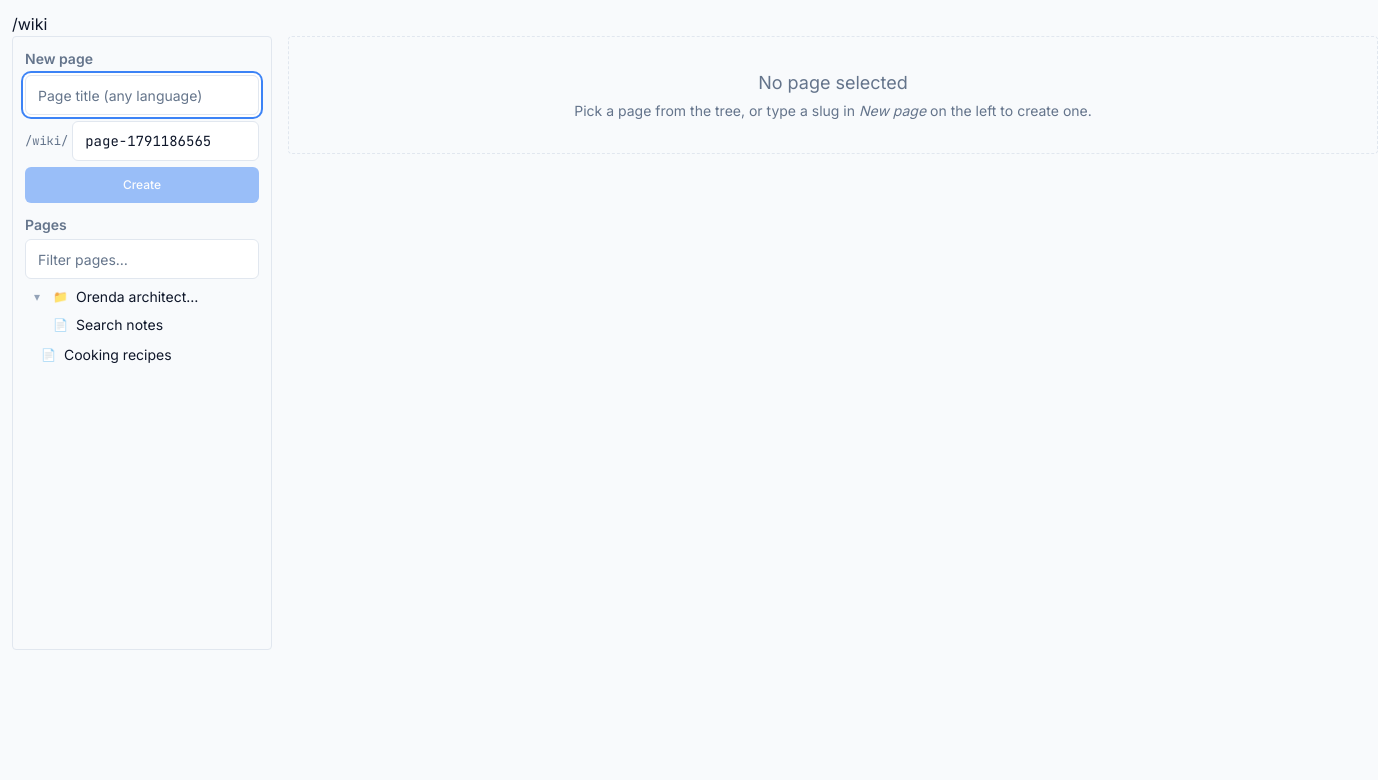
it: WikiSidebar search › filters the tree instantly by title, keeping ancestors of matches
This screenshot has width=1378, height=780.
Check: the link "Orenda architecture" is shown, box [72,283,205,311]
In the field named "Search wiki": (142, 259) [25,239,259,279], type "search"
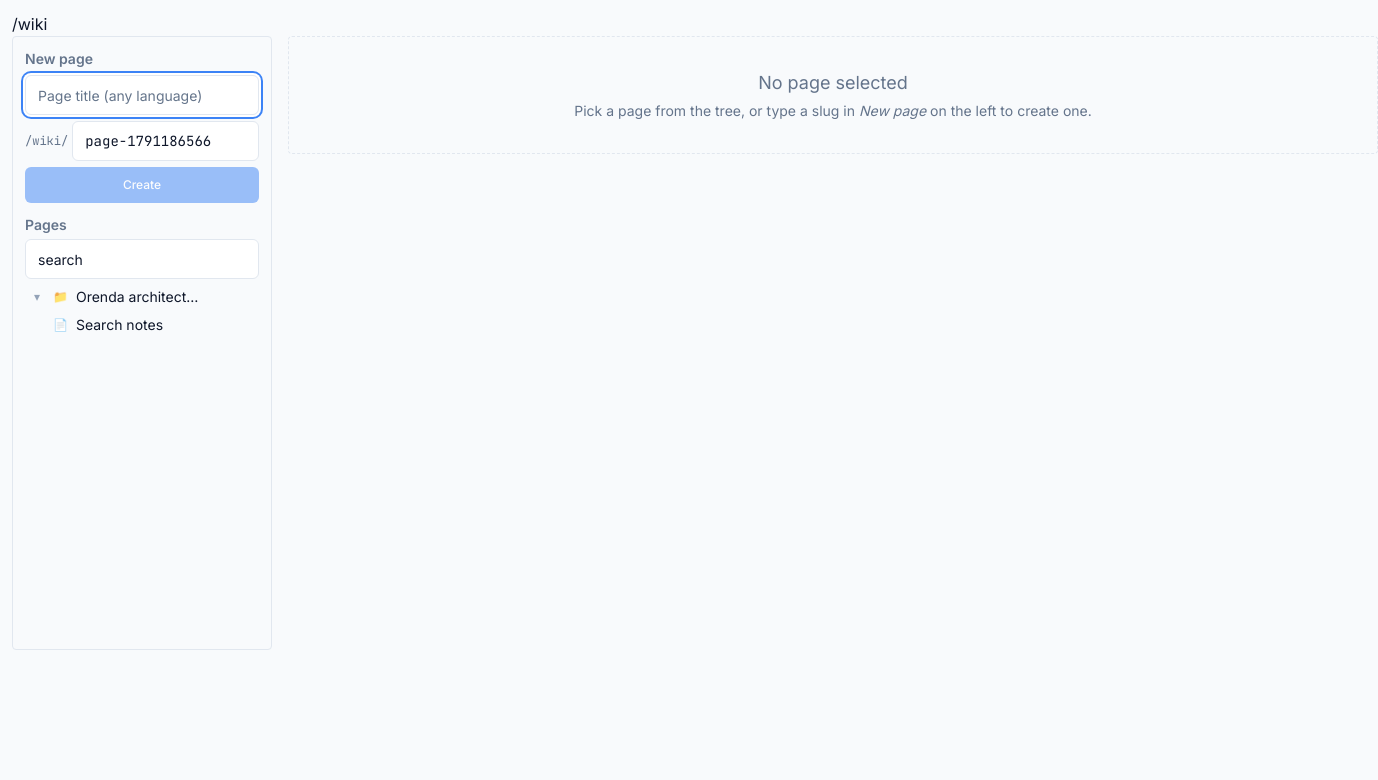
Check: the link "Search notes" is shown, box [76,316,163,333]
Check: the link "Cooking recipes" is gone
